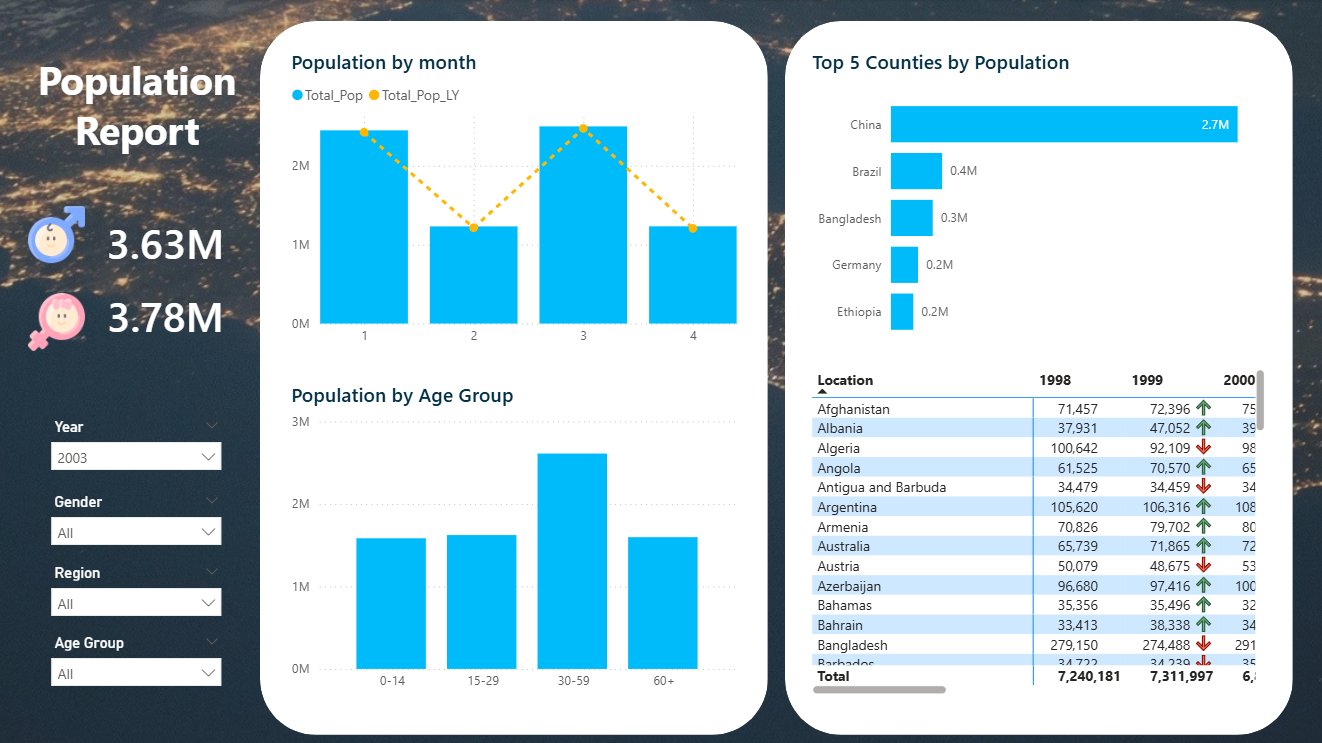

This screenshot's page, from the dashboard's own definition file:
{"tool":"powerbi","page":{"name":"Final","canvas":[1280,720],"ordinal":1},"visuals":[{"type":"shape","box":[759.7,21.2,490.4,689.2],"z":0},{"type":"shape","box":[252.9,21.2,490.4,689.2],"z":1000},{"type":"slicer","fields":{"Values":["DIM_DATE.Year"]},"box":[41.5,399.6,184.4,72.4],"z":2000},{"type":"lineClusteredColumnComboChart","title":"Population by month","fields":{"Category":["DIM_DATE.Month"],"Y":["_Measure.Total_Pop"],"Y2":["_Measure.Total_Pop_LY"]},"box":[278,47.3,440.2,296.3],"z":3000},{"type":"pivotTable","title":"ddada","fields":{"Values":["_Measure.Total_Pop"],"Columns":["DIM_DATE.Year"],"Rows":["Dim_Location.Location"]},"box":[780.9,352.3,446.9,324.3],"z":4000},{"type":"clusteredBarChart","title":"Top 5 Counties by Population","fields":{"Category":["Dim_Location.Location"],"Y":["_Measure.Total_Pop"]},"box":[780.9,47.3,446.9,296.3],"z":5000},{"type":"clusteredColumnChart","title":"Population by Age Group","fields":{"Y":["_Measure.Total_Pop"],"Category":["Dim_AgeGroup.AgeGrpDisplay"]},"box":[278,368.7,440.2,307.9],"z":6000},{"type":"slicer","fields":{"Values":["Fact_Survey.Gender"]},"box":[41.5,472,184.4,68.5],"z":7000},{"type":"slicer","fields":{"Values":["Dim_Location.Region"]},"box":[41.5,540.6,184.4,67.6],"z":8000},{"type":"slicer","fields":{"Values":["Dim_AgeGroup.AgeGrp"]},"box":[41.5,608.1,184.4,72.4],"z":9000},{"type":"textbox","box":[29,47.3,210.4,113.9],"z":10000},{"type":"cardVisual","fields":{"Data":["_Measure.Total_Pop"]},"box":[71.4,196,181.5,75.3],"z":11000},{"type":"cardVisual","fields":{"Data":["_Measure.Total_Pop_Female"]},"box":[71.4,268.4,181.5,71.4],"z":12000},{"type":"image","box":[29,196,55,63.7],"z":13000},{"type":"image","box":[29,283.8,55,56],"z":14000}]}

Visuals, with their boxes in screenshot pixels (x1, y1, x2, y2), scaled from the page's 1280x720 canvas onto the 1322x743 screenshot:
shape: box=[785, 22, 1291, 733]
shape: box=[261, 22, 768, 733]
slicer - DIM_DATE.Year: box=[43, 412, 233, 487]
"Population by month" lineClusteredColumnComboChart: box=[287, 49, 742, 355]
"ddada" pivotTable: box=[807, 364, 1268, 698]
"Top 5 Counties by Population" clusteredBarChart: box=[807, 49, 1268, 355]
"Population by Age Group" clusteredColumnChart: box=[287, 380, 742, 698]
slicer - Fact_Survey.Gender: box=[43, 487, 233, 558]
slicer - Dim_Location.Region: box=[43, 558, 233, 628]
slicer - Dim_AgeGroup.AgeGrp: box=[43, 628, 233, 702]
textbox: box=[30, 49, 247, 166]
cardVisual - _Measure.Total_Pop: box=[74, 202, 261, 280]
cardVisual - _Measure.Total_Pop_Female: box=[74, 277, 261, 351]
image: box=[30, 202, 87, 268]
image: box=[30, 293, 87, 351]
